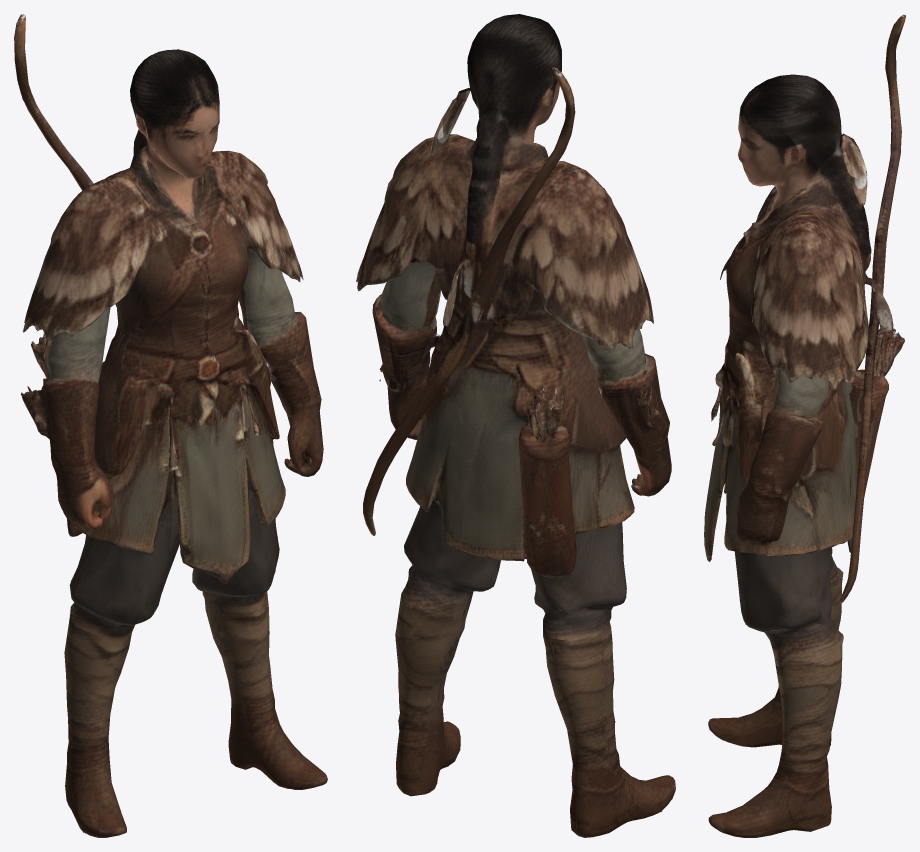
Rendered from Kestrel.fbx.
3 views of the same model, side by side, from view 1: azimuth 30°, elevation 25°; view 2: azimuth 150°, elevation 25°; view 3: azimuth 270°, elevation 25° (orthographic). The views are drawn at different scales.
Visible parts, largest first — view 1: Kestrel; view 2: Kestrel; view 3: Kestrel.
Boxes of the visible parts, x1,y1,x2,y2 form: Kestrel: (14,14,327,837); Kestrel: (356,14,675,837); Kestrel: (704,14,905,837).
Bounding box in the file's own units: 0.7394 × 1.95 × 0.491.
Materials: 1 (1 with a texture image).
